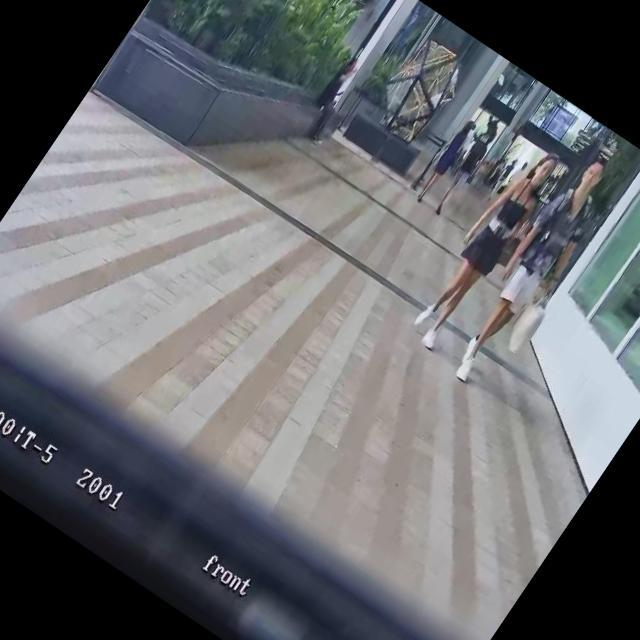person: (438, 147, 628, 394), (401, 138, 569, 358), (408, 114, 482, 208), (428, 124, 501, 219), (489, 155, 520, 196)
